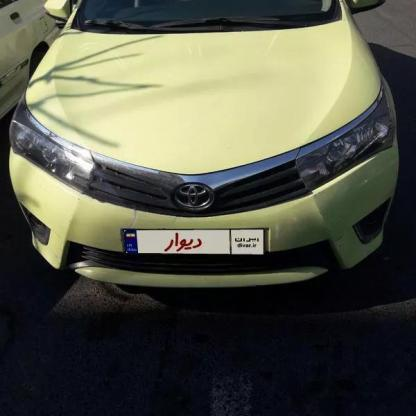Car: (0, 0, 403, 313), (0, 0, 59, 164)
